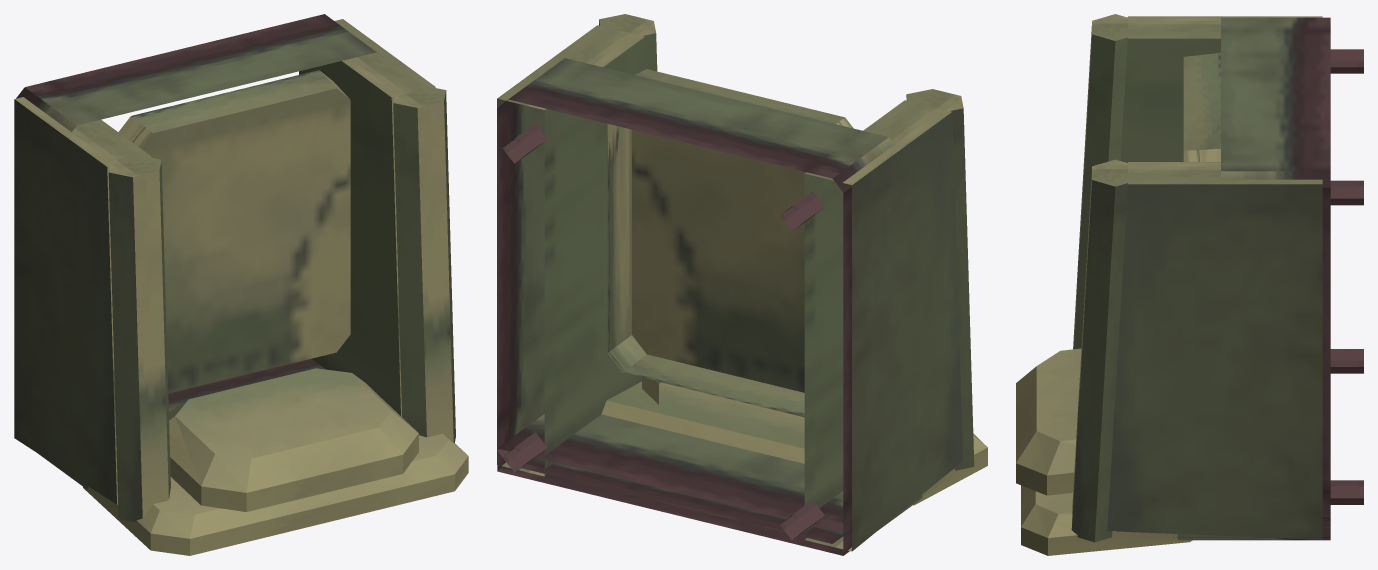
File: pz_chair_seating_indoor_01_green_comfy_fidelity_r1.obj
3 views of the same model, side by side, from view 1: azimuth 30°, elevation 25°; view 2: azimuth 150°, elevation 25°; view 3: azimuth 270°, elevation 25° (orthographic). The views are drawn at different scales.
Parts seen in each view (by area): view 1: pz_chair_seating_indoor_01_green_comfy__seat_0__seat, pz_chair_seating_indoor_01_green_comfy__arm_panel_-1__arm, pz_chair_seating_indoor_01_green_comfy__back_cushion_0__back, pz_chair_seating_indoor_01_green_comfy__rounded_rail_-1__arm, pz_chair_seating_indoor_01_green_comfy__arm_panel_1__arm, pz_chair_seating_indoor_01_green_comfy__rounded_rail_1__arm, pz_chair_seating_indoor_01_green_comfy__lower_body__body, pz_chair_seating_indoor_01_green_comfy__rear_shell__back, pz_chair_seating_indoor_01_green_comfy__rear_body_bridge__body; view 2: pz_chair_seating_indoor_01_green_comfy__arm_panel_-1__arm, pz_chair_seating_indoor_01_green_comfy__seat_0__seat, pz_chair_seating_indoor_01_green_comfy__lower_body__body, pz_chair_seating_indoor_01_green_comfy__arm_panel_1__arm, pz_chair_seating_indoor_01_green_comfy__rear_body_bridge__body, pz_chair_seating_indoor_01_green_comfy__rear_shell__back, pz_chair_seating_indoor_01_green_comfy__rounded_rail_-1__arm, pz_chair_seating_indoor_01_green_comfy__rounded_rail_1__arm, pz_chair_seating_indoor_01_green_comfy__foot_-1_-1__frame, pz_chair_seating_indoor_01_green_comfy__foot_-1_1__frame, pz_chair_seating_indoor_01_green_comfy__foot_1_-1__frame, pz_chair_seating_indoor_01_green_comfy__foot_1_1__frame (+1 smaller); view 3: pz_chair_seating_indoor_01_green_comfy__arm_panel_1__arm, pz_chair_seating_indoor_01_green_comfy__lower_body__body, pz_chair_seating_indoor_01_green_comfy__rounded_rail_1__arm, pz_chair_seating_indoor_01_green_comfy__arm_panel_-1__arm, pz_chair_seating_indoor_01_green_comfy__back_cushion_0__back, pz_chair_seating_indoor_01_green_comfy__rounded_rail_-1__arm, pz_chair_seating_indoor_01_green_comfy__rear_shell__back, pz_chair_seating_indoor_01_green_comfy__seat_0__seat, pz_chair_seating_indoor_01_green_comfy__foot_1_1__frame, pz_chair_seating_indoor_01_green_comfy__foot_-1_-1__frame, pz_chair_seating_indoor_01_green_comfy__foot_-1_1__frame, pz_chair_seating_indoor_01_green_comfy__foot_1_-1__frame (+1 smaller).
Boxes of the visible parts, x1,y1,x2,y2 form: pz_chair_seating_indoor_01_green_comfy__seat_0__seat: [118, 70, 350, 393]; pz_chair_seating_indoor_01_green_comfy__arm_panel_-1__arm: [14, 97, 151, 504]; pz_chair_seating_indoor_01_green_comfy__back_cushion_0__back: [169, 368, 418, 511]; pz_chair_seating_indoor_01_green_comfy__rounded_rail_-1__arm: [108, 155, 170, 522]; pz_chair_seating_indoor_01_green_comfy__arm_panel_1__arm: [299, 19, 435, 416]; pz_chair_seating_indoor_01_green_comfy__rounded_rail_1__arm: [393, 85, 455, 442]; pz_chair_seating_indoor_01_green_comfy__lower_body__body: [16, 14, 378, 131]; pz_chair_seating_indoor_01_green_comfy__rear_shell__back: [83, 433, 468, 555]; pz_chair_seating_indoor_01_green_comfy__rear_body_bridge__body: [39, 358, 325, 489]; pz_chair_seating_indoor_01_green_comfy__arm_panel_-1__arm: [804, 100, 962, 551]; pz_chair_seating_indoor_01_green_comfy__seat_0__seat: [607, 69, 853, 417]; pz_chair_seating_indoor_01_green_comfy__lower_body__body: [497, 58, 894, 543]; pz_chair_seating_indoor_01_green_comfy__arm_panel_1__arm: [497, 25, 645, 476]; pz_chair_seating_indoor_01_green_comfy__rear_body_bridge__body: [497, 414, 922, 555]; pz_chair_seating_indoor_01_green_comfy__rear_shell__back: [601, 381, 987, 505]; pz_chair_seating_indoor_01_green_comfy__rounded_rail_-1__arm: [906, 89, 974, 470]; pz_chair_seating_indoor_01_green_comfy__rounded_rail_1__arm: [599, 14, 657, 71]; pz_chair_seating_indoor_01_green_comfy__foot_-1_-1__frame: [780, 500, 824, 540]; pz_chair_seating_indoor_01_green_comfy__foot_-1_1__frame: [780, 191, 824, 231]; pz_chair_seating_indoor_01_green_comfy__foot_1_-1__frame: [502, 432, 547, 472]; pz_chair_seating_indoor_01_green_comfy__foot_1_1__frame: [502, 123, 547, 163]; pz_chair_seating_indoor_01_green_comfy__arm_panel_1__arm: [1107, 162, 1322, 539]; pz_chair_seating_indoor_01_green_comfy__lower_body__body: [1221, 17, 1330, 519]; pz_chair_seating_indoor_01_green_comfy__rounded_rail_1__arm: [1071, 159, 1138, 542]; pz_chair_seating_indoor_01_green_comfy__arm_panel_-1__arm: [1120, 16, 1322, 162]; pz_chair_seating_indoor_01_green_comfy__back_cushion_0__back: [1016, 348, 1081, 495]; pz_chair_seating_indoor_01_green_comfy__rounded_rail_-1__arm: [1073, 14, 1138, 349]; pz_chair_seating_indoor_01_green_comfy__rear_shell__back: [1021, 485, 1192, 555]; pz_chair_seating_indoor_01_green_comfy__seat_0__seat: [1183, 52, 1220, 161]; pz_chair_seating_indoor_01_green_comfy__foot_1_1__frame: [1330, 180, 1363, 205]; pz_chair_seating_indoor_01_green_comfy__foot_-1_-1__frame: [1330, 349, 1363, 373]; pz_chair_seating_indoor_01_green_comfy__foot_-1_1__frame: [1330, 49, 1363, 73]; pz_chair_seating_indoor_01_green_comfy__foot_1_-1__frame: [1330, 480, 1363, 504].
Bounding box in the file's own units: 0.9263 × 0.9572 × 0.7886.
1 material, 1 textured.
